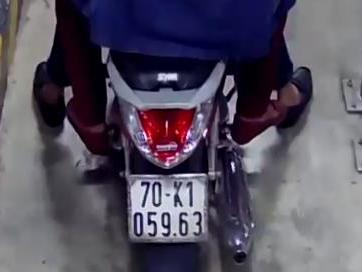num_plate: (124, 174, 210, 242)
